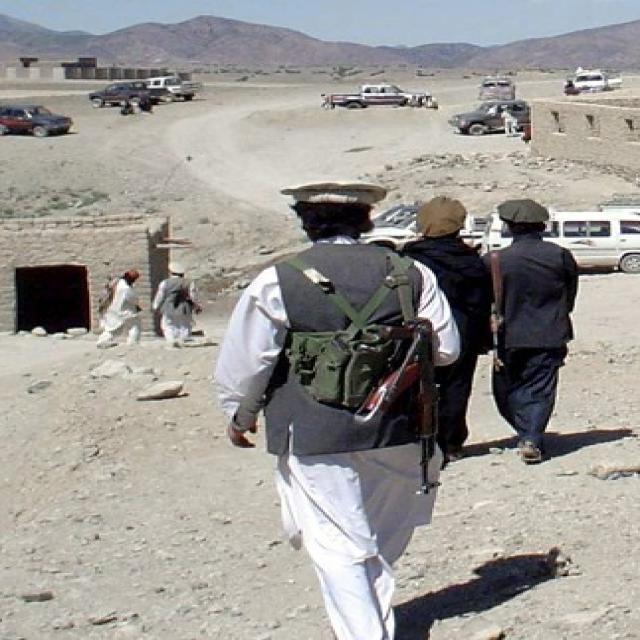Militant: (218, 160, 468, 638), (368, 171, 510, 499), (466, 193, 606, 497)
